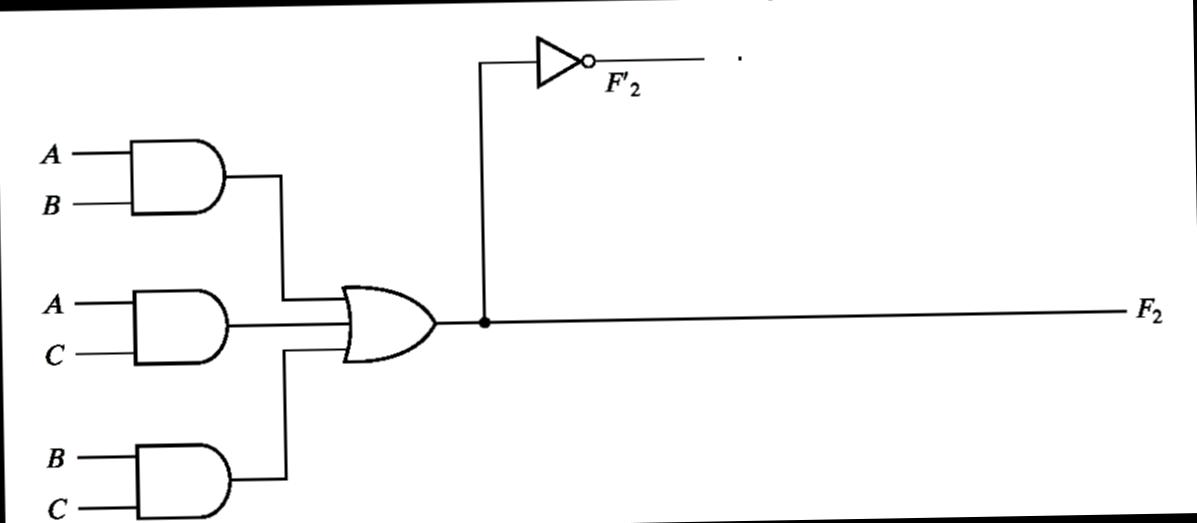and: (114, 128, 236, 222), (120, 278, 236, 373), (125, 433, 239, 523)
not: (522, 28, 601, 94)
or: (332, 272, 445, 372)
